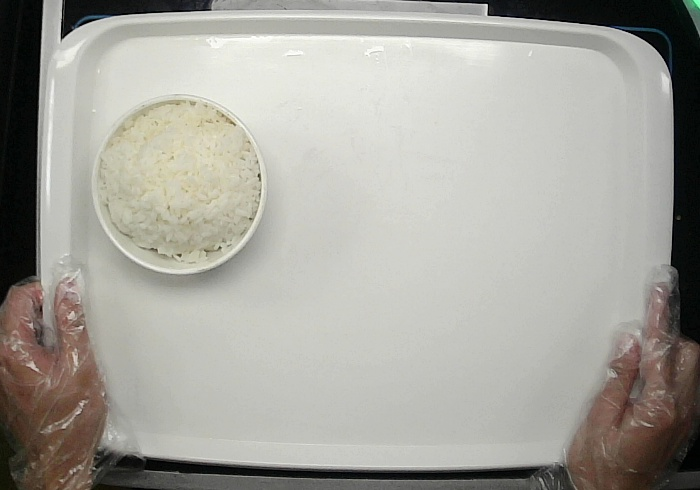HZYJPL-Fan_Wan: (91, 93, 267, 274)
